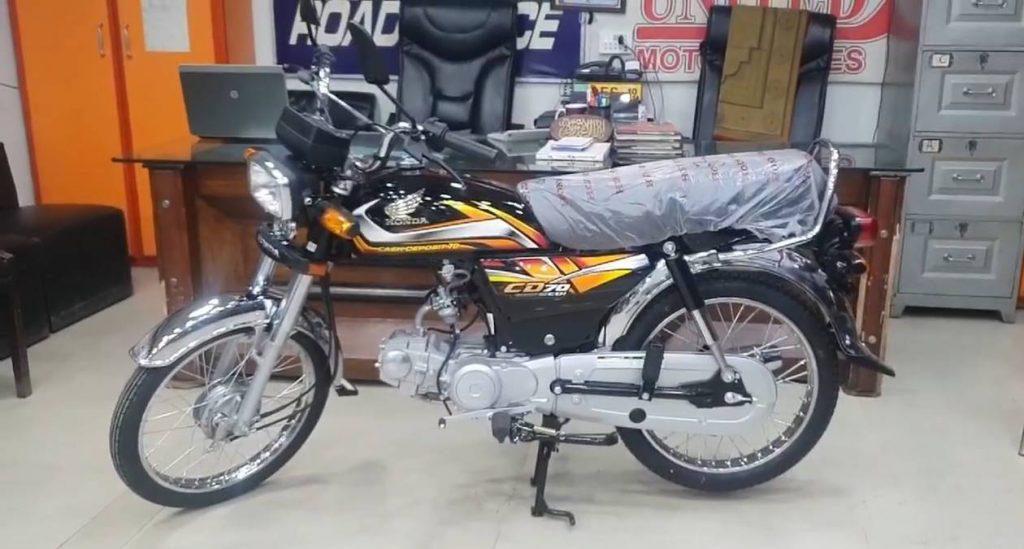bike: (104, 1, 897, 549)
